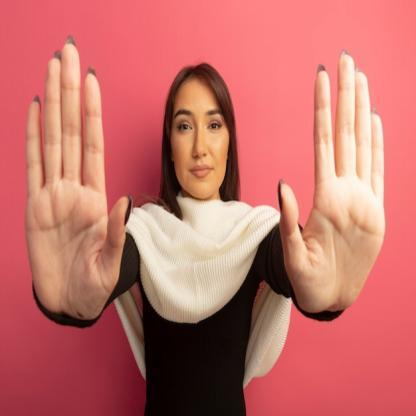stop: (23, 30, 133, 330), (274, 44, 390, 322)
